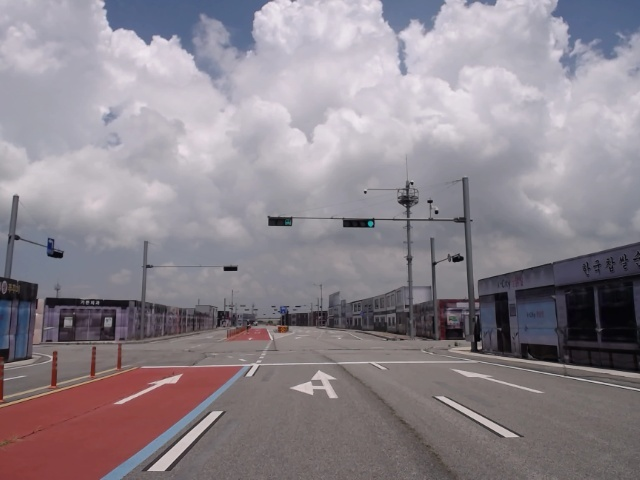straight_green_4: (343, 218, 375, 228)
